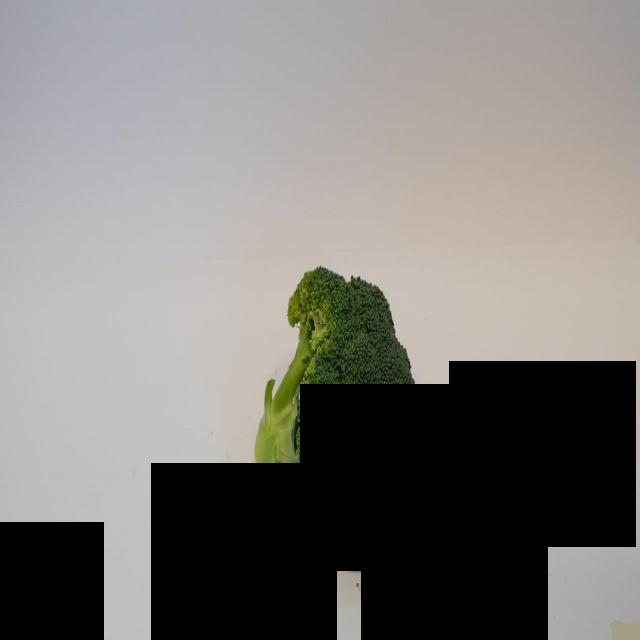broccoli: (255, 271, 419, 572)
